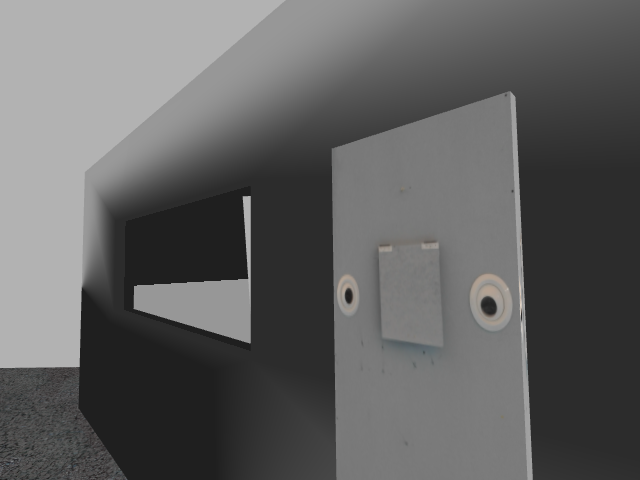facade: (335, 240, 514, 354)
